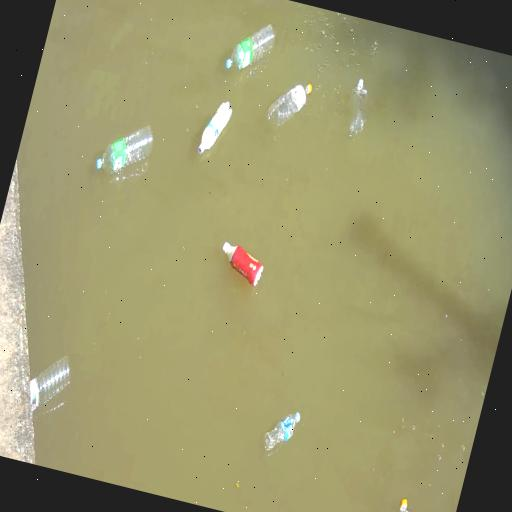plastic: (95, 126, 152, 173), (225, 24, 274, 71), (29, 357, 69, 411), (266, 84, 311, 132), (197, 102, 231, 154), (222, 242, 262, 286), (264, 413, 299, 451), (348, 79, 366, 138), (399, 500, 407, 511)
